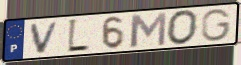6: (101, 15, 127, 51)
G: (200, 8, 233, 43)
L: (66, 18, 91, 55)
M: (128, 11, 168, 49)
O: (165, 9, 200, 47)
V: (29, 20, 62, 55)
